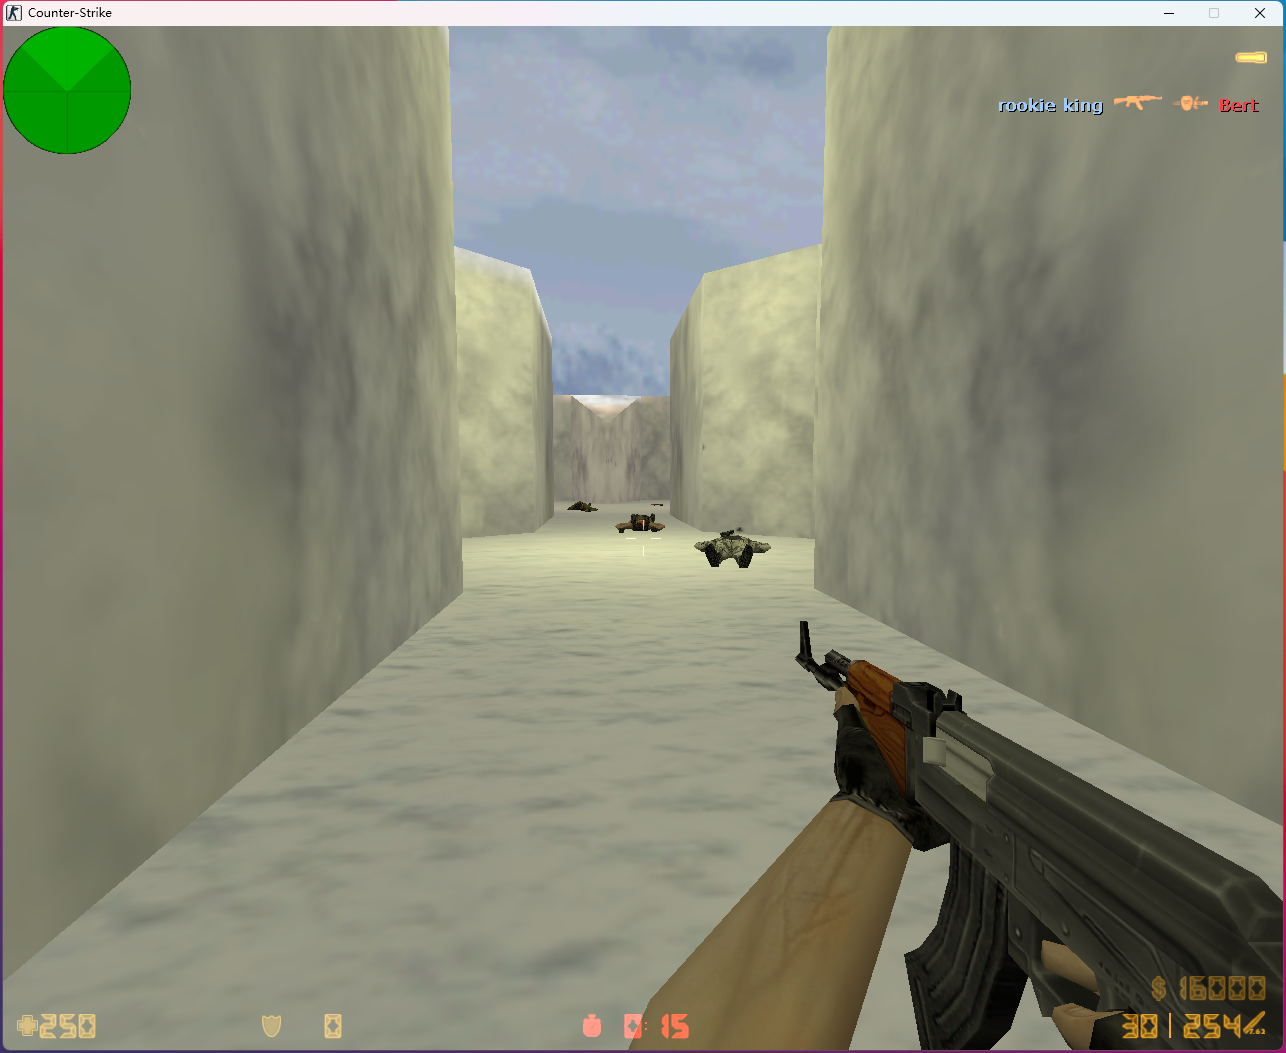dead: (693, 528, 770, 569), (615, 510, 665, 537), (565, 499, 599, 512)
